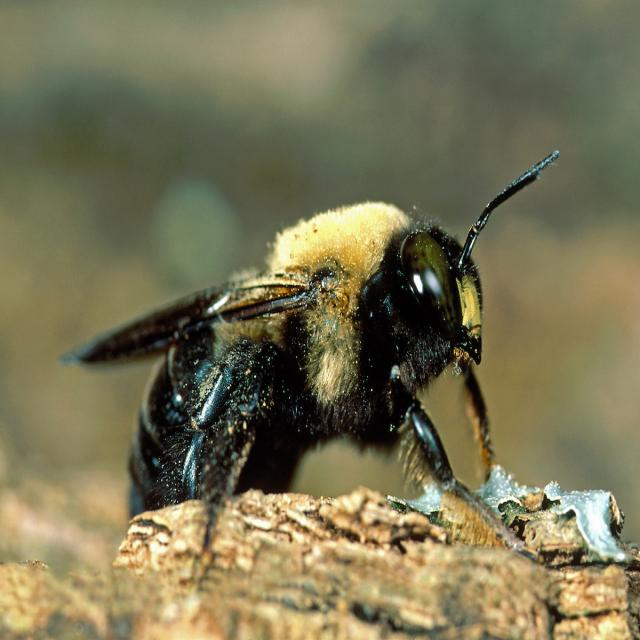Xylocopa: (62, 138, 575, 576)
